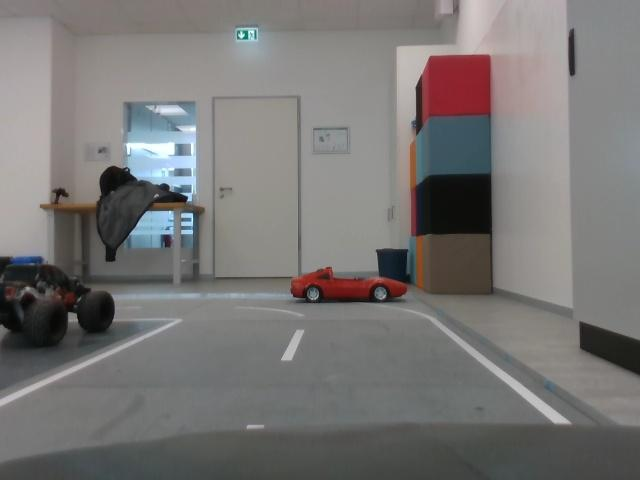car: (2, 255, 125, 343), (290, 265, 410, 307)
